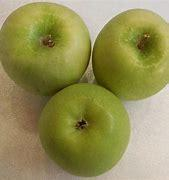apple: (36, 82, 132, 173), (2, 2, 96, 92), (89, 7, 169, 102)
